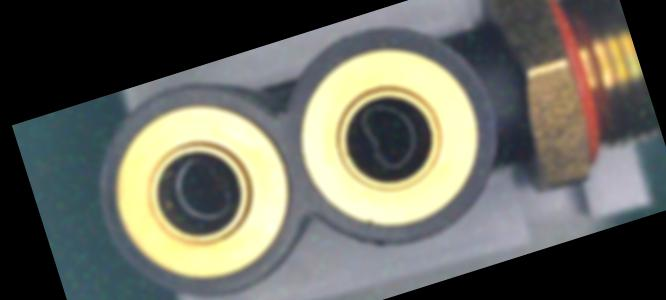off-centered: (347, 93, 431, 179), (164, 147, 243, 229)
